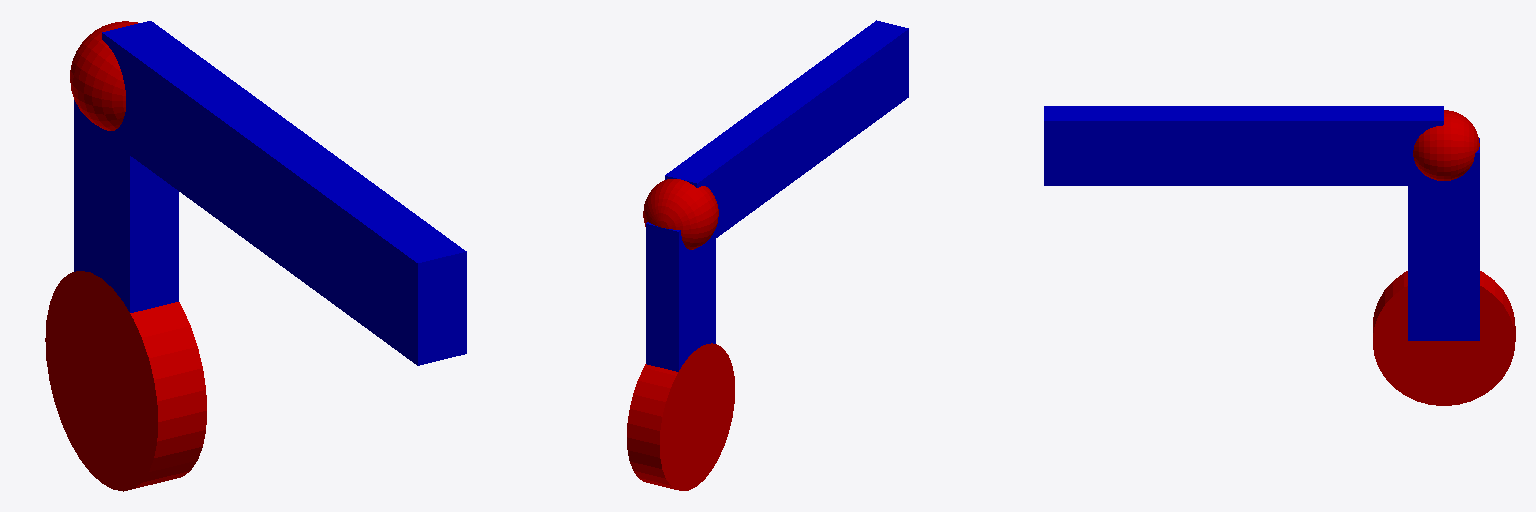
URDF robot description (TwoLinkStruct8890129497):
<?xml version="1.0"?>
<robot  name="TwoLinkStruct8890129497" >
 <material  name="blue" >
  <color  rgba="0 0 0.8 1.0" />
 </material>
 <material  name="red" >
  <color  rgba="0.8 0 0 1.0" />
 </material>
 <link  name="base_link" >
  <visual >
   <origin  rpy="0 1.5707 0"  xyz="0 0 0" />
   <material  name="red" />
   <geometry >
    <cylinder  length="0.05"  radius="0.1" />
   </geometry>
  </visual>
 </link>
 <joint  type="revolute"  name="joint1" >
  <parent  link="base_link" />
  <child  link="link1" />
  <origin  xyz="0 0 0"  rpy="0 0 0" />
  <axis  xyz="1 0 0" />
 </joint>
 <link  name="link1" >
  <inertial >
   <origin  rpy="0 0 0"  xyz="0 0 0.14519055850777698" />
   <mass  value="0.6512623376028709" />
   <inertia  ixy="0.0"  iyy="0.0002713593073345296"  izz="0.004711947765356753"  ixz="0.0"  ixx="0.004711947765356753"  iyz="0.0" />
  </inertial>
  <visual >
   <origin  rpy="0 0 0"  xyz="0 0 0.14519055850777698" />
   <material  name="blue" />
   <geometry >
    <box  size="0.05 0.1 0.29038111701555397" />
   </geometry>
  </visual>
 </link>
 <joint  type="fixed"  name="joint-joint-1" >
  <parent  link="link1" />
  <child  link="joint-link-1" />
  <origin  xyz="0 0 0.29038111701555397"  rpy="1.5707 0 0" />
  <axis  xyz="1 0 0" />
 </joint>
 <link  name="joint-link-1" >
  <inertial >
   <origin  rpy="0 0 0"  xyz="0 0 0" />
   <mass  value="0.8650637520010404" />
   <inertia  ixy="0"  iyy="0"  izz="0"  ixz="0"  ixx="0"  iyz="0" />
  </inertial>
  <visual >
   <origin  rpy="0 0 0"  xyz="0 0 0" />
   <material  name="red" />
   <geometry >
    <sphere  radius="0.05" />
   </geometry>
  </visual>
 </link>
 <joint  type="revolute"  name="joint2" >
  <parent  link="link1" />
  <child  link="link2" />
  <origin  xyz="0 0 0.29038111701555397"  rpy="1.5707 0 0" />
  <axis  xyz="1 0 0" />
 </joint>
 <link  name="link2" >
  <inertial >
   <origin  rpy="0 0 0"  xyz="0 0 0.27942467221175843" />
   <mass  value="1.5023723544906045" />
   <inertia  ixy="0.0"  iyy="0.0002713593073345296"  izz="0.017085465259633413"  ixz="0.0"  ixx="0.017085465259633413"  iyz="0.0" />
  </inertial>
  <visual >
   <origin  rpy="0 0 0"  xyz="0 0 0.27942467221175843" />
   <material  name="blue" />
   <geometry >
    <box  size="0.05 0.1 0.5588493444235169" />
   </geometry>
  </visual>
 </link>
 <joint  type="fixed"  name="eef_joint" >
  <parent  link="link2" />
  <child  link="eef" />
  <origin  xyz="0 0 0.5588493444235169"  rpy="0 0 0" />
 </joint>
 <link  name="eef" >
  <inertial >
   <origin  rpy="0 0 0"  xyz="0 0 0" />
   <mass  value="1" />
   <inertia  ixy="0"  iyy="0"  izz="0"  ixz="0"  ixx="0"  iyz="0" />
  </inertial>
 </link>
 <transmission  name="motor1" >
  <type  xmltext="SimpleTransmission" >
   SimpleTransmission
  </type>
  <actuator  name="motor1" >
   <mechanicalreduction  xmltext="1" >
    1
   </mechanicalreduction>
  </actuator>
  <joint  name="joint1" />
 </transmission>
 <transmission  name="motor2" >
  <type  xmltext="SimpleTransmission" >
   SimpleTransmission
  </type>
  <actuator  name="motor2" >
   <mechanicalreduction  xmltext="1" >
    1
   </mechanicalreduction>
  </actuator>
  <joint  name="joint2" />
 </transmission>
</robot>

<!-- {'carti': array([-0.1 ,  0.14,  0.85]), 'cartd': array([-0.1 ,  0.32,  1.29]), 'tau_mu': 0.20116591487765517, 'b0': 0.04506530425368017, 'Km': 3.623723668897415, 'k_velocity': 54.614922932257514, 'tau_max_m': 3.5966883645552983, 'omega_max_m': 1000.0, 'gear_ratio': 12.173124332447923, 'Kp': 43.12434427061259, 'Kd': 51.45835078384391, 'm_m': 0.8650637520010404, 'l1': 0.29038111701555397, 'l2': 0.5588493444235169, 'k1': 21489.424644174276, 'k2': 248495100.54742506, 'k3': 379000000.0}-->

--- What the picture shows (computed from the rendered views, not written in the file) ---
Views: 3 orthographic renders of the robot side by side, from view 1: azimuth 30°, elevation 25°; view 2: azimuth 150°, elevation 25°; view 3: azimuth 270°, elevation 25°.
Robot: TwoLinkStruct8890129497 — 5 links, 4 joints (2 revolute, 2 fixed); root link base_link; default pose: all joints at 0.
Visible links, largest first — view 1: link2, base_link, link1, joint-link-1; view 2: link2, base_link, link1, joint-link-1; view 3: link2, link1, base_link, joint-link-1.
Link boxes in pixels (<box>): link2: <box>102,21,466,365</box>; base_link: <box>45,271,206,491</box>; link1: <box>74,100,178,312</box>; joint-link-1: <box>70,21,137,130</box>; link2: <box>665,20,908,251</box>; base_link: <box>627,343,734,490</box>; link1: <box>646,222,715,371</box>; joint-link-1: <box>643,179,718,249</box>; link2: <box>1044,106,1443,185</box>; link1: <box>1408,138,1479,340</box>; base_link: <box>1373,271,1515,405</box>; joint-link-1: <box>1413,110,1479,180</box>.
Bounding box of the posed robot: 0.1 × 0.6589 × 0.4404 m (x, y, z).
Geometry: primitives only (box / cylinder / sphere), no mesh files.
